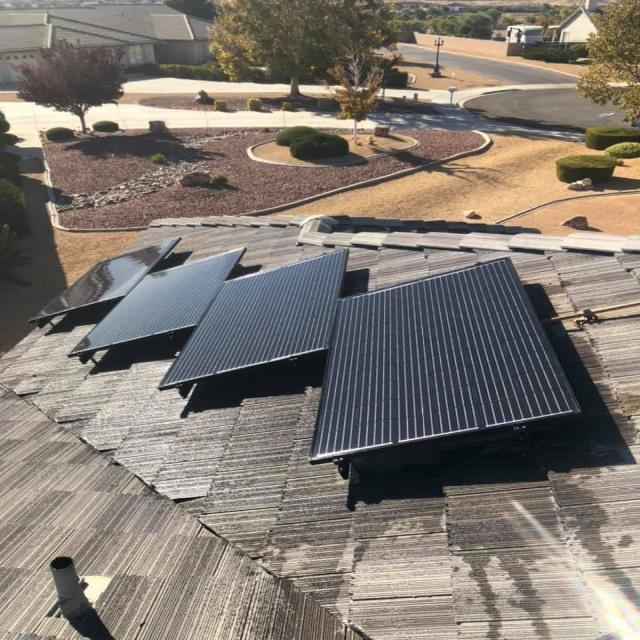no faulty: (312, 256, 578, 460), (163, 246, 343, 385), (70, 251, 241, 353)
